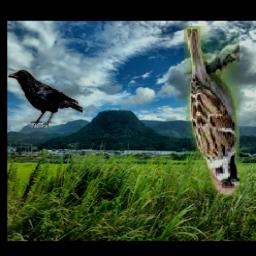Crow: (7, 69, 83, 128)
Sparrow: (184, 27, 239, 197)
